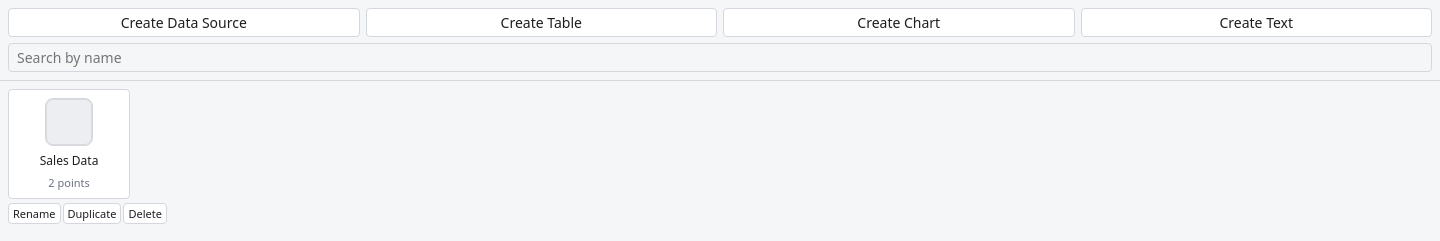
Scenario: DataSourcesPanel rename and delete › duplicates a data source
The width and height of the screenshot is (1440, 241).
Check: the button with aria-label "Select Sales Data" is shown, box 8,89 -> 130,199
What coordinates should you click on to do the following:
click the button with aria-label "Duplicate Sales Data"
I would click on:
 (92, 214)
Its box is 62,203 -> 121,224.
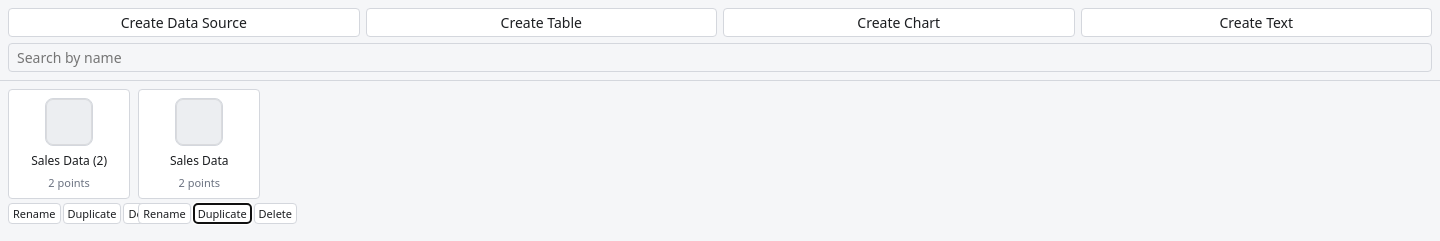
Check: the text "Sales Data (2)" is shown, box 31,152 -> 107,169
